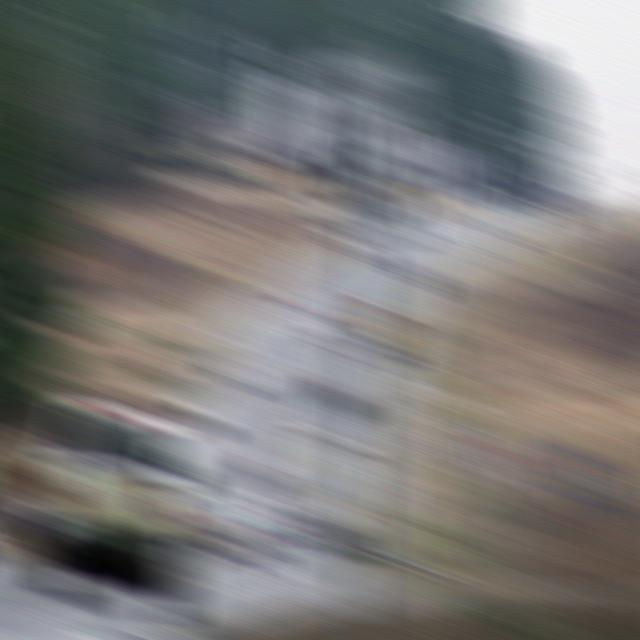speedLimit65: (323, 62, 413, 226)
